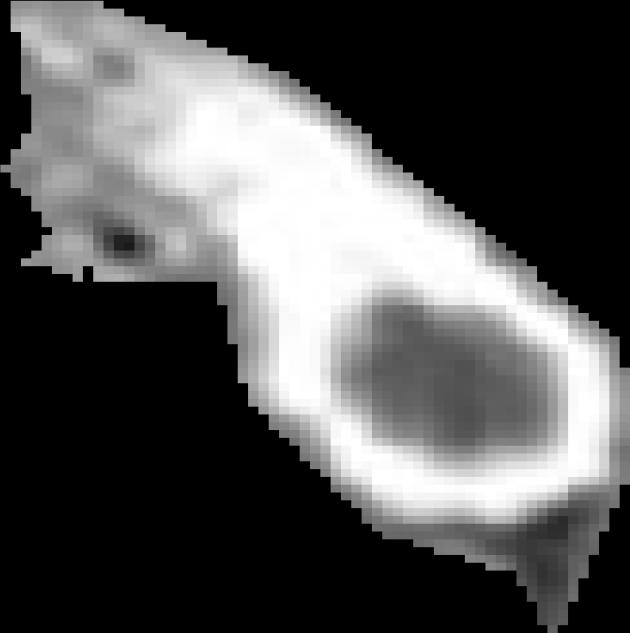tumor_good_chance: (0, 1, 630, 633)
